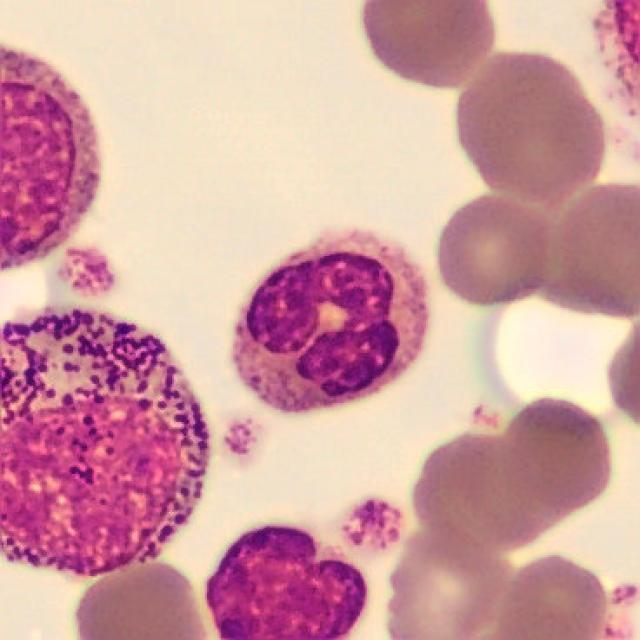Linfocito: (207, 528, 369, 640)
Neutrofilo segmentado: (230, 228, 431, 415)
Promielocito: (2, 311, 209, 578)
